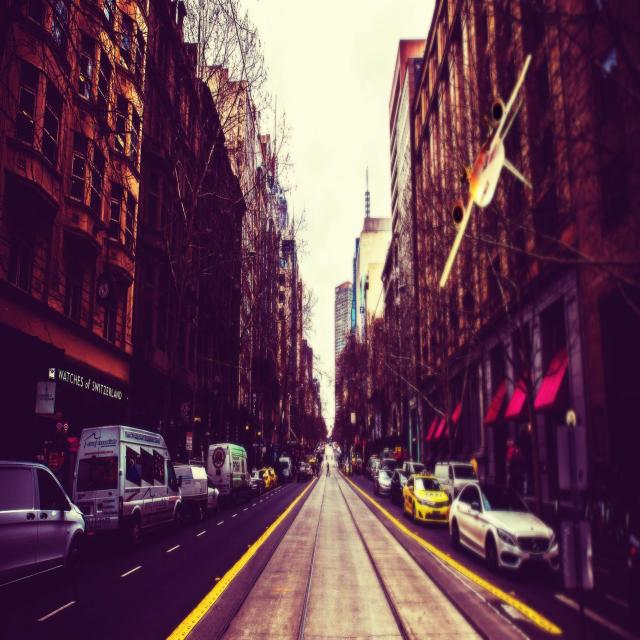airplane: (438, 52, 533, 292)
